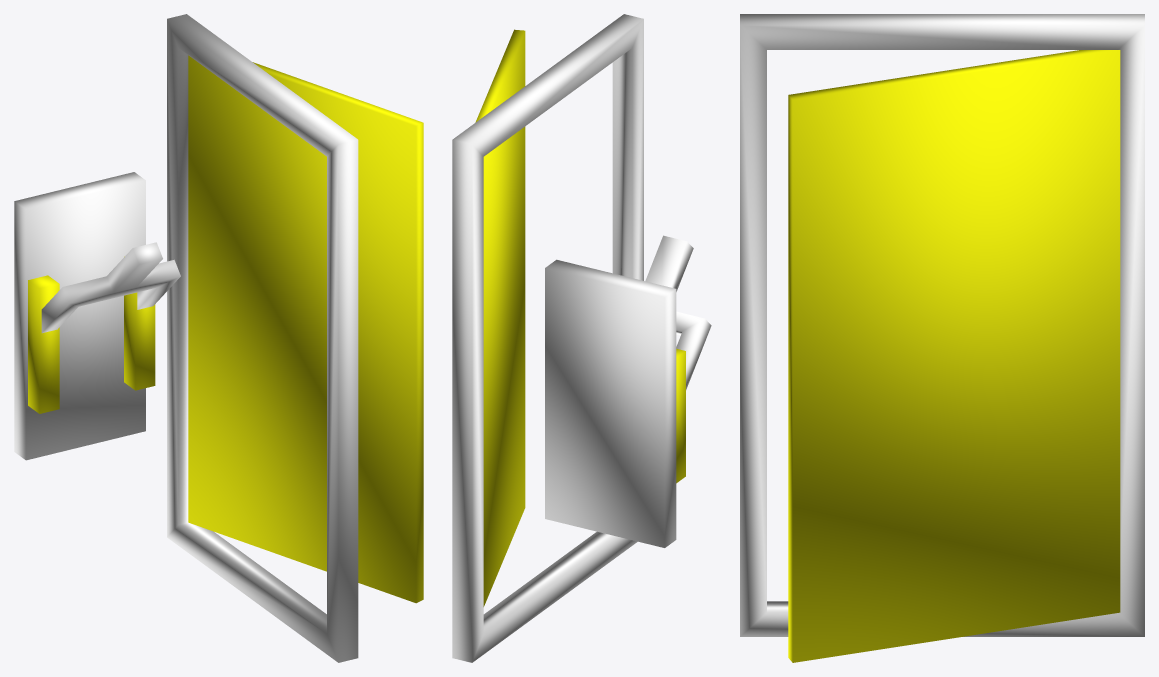
Rendered from INVISIBLE_ZCTRIGGERCHANGELEVEL.glb.
3 renders of one model, left to right at view 1: azimuth 30°, elevation 25°; view 2: azimuth 150°, elevation 25°; view 3: azimuth 270°, elevation 25°, orthographic. The views are drawn at different scales.
Visible parts, largest first — view 1: Mesh; view 2: Mesh; view 3: Mesh.
Boxes of the visible parts, left/top/right/bottom form: Mesh: left=14, top=14, right=423, bottom=662; Mesh: left=452, top=14, right=711, bottom=662; Mesh: left=740, top=14, right=1144, bottom=662.
Size of the model in its own units: 0.2824 by 0.5 by 0.3.
